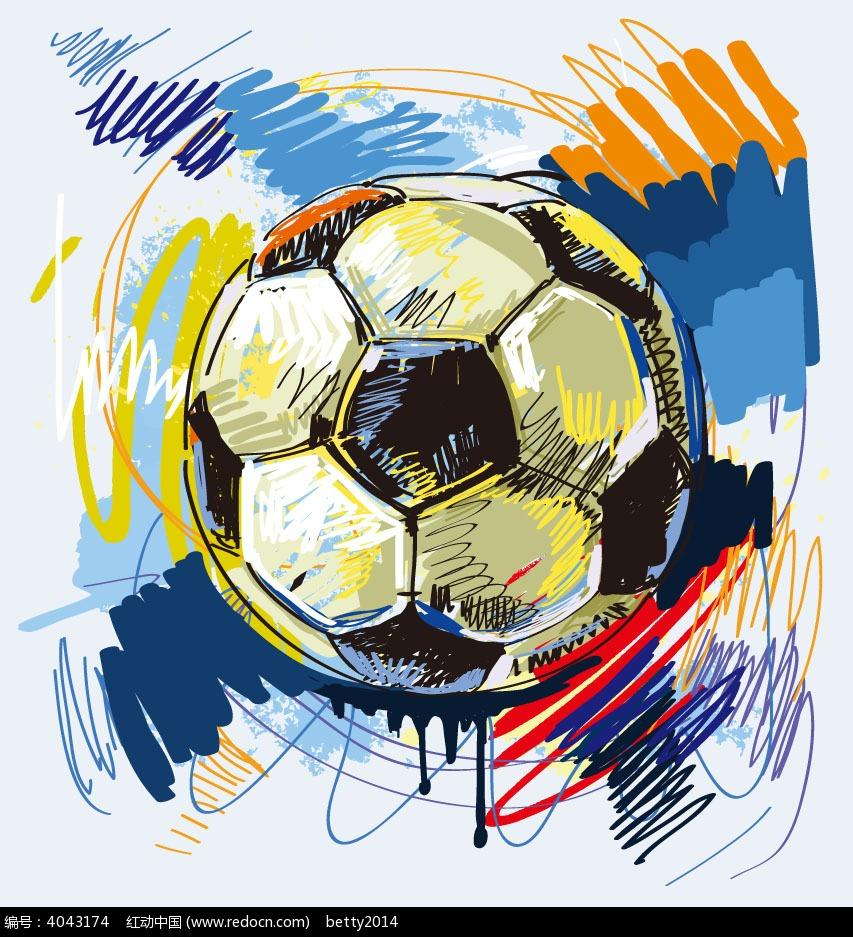football: (194, 172, 688, 698)
